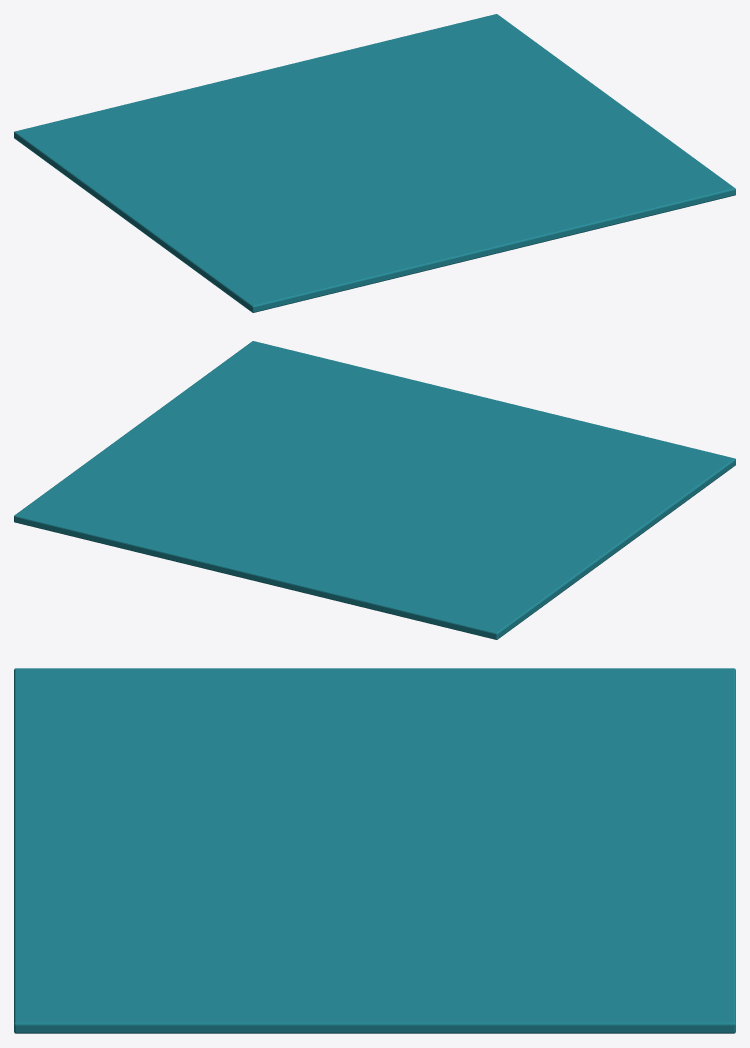
The model's file is SM_Interact_CisternWater.fbx.
3 views of the same model, one above another, from view 1: azimuth 30°, elevation 25°; view 2: azimuth 150°, elevation 25°; view 3: azimuth 270°, elevation 25° (orthographic). The views are drawn at different scales.
Visible parts, largest first — view 1: SM_Interact_CisternWater; view 2: SM_Interact_CisternWater; view 3: SM_Interact_CisternWater.
Part boxes in pixels (x1,y1,x2,y2): SM_Interact_CisternWater: (14,14,735,312); SM_Interact_CisternWater: (14,341,735,639); SM_Interact_CisternWater: (14,668,735,1033).
Bounding box in the file's own units: 4.2 × 3.6 × 0.06.
